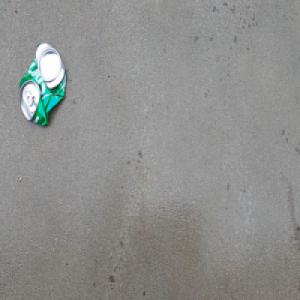SodaCan: (18, 39, 68, 128)
